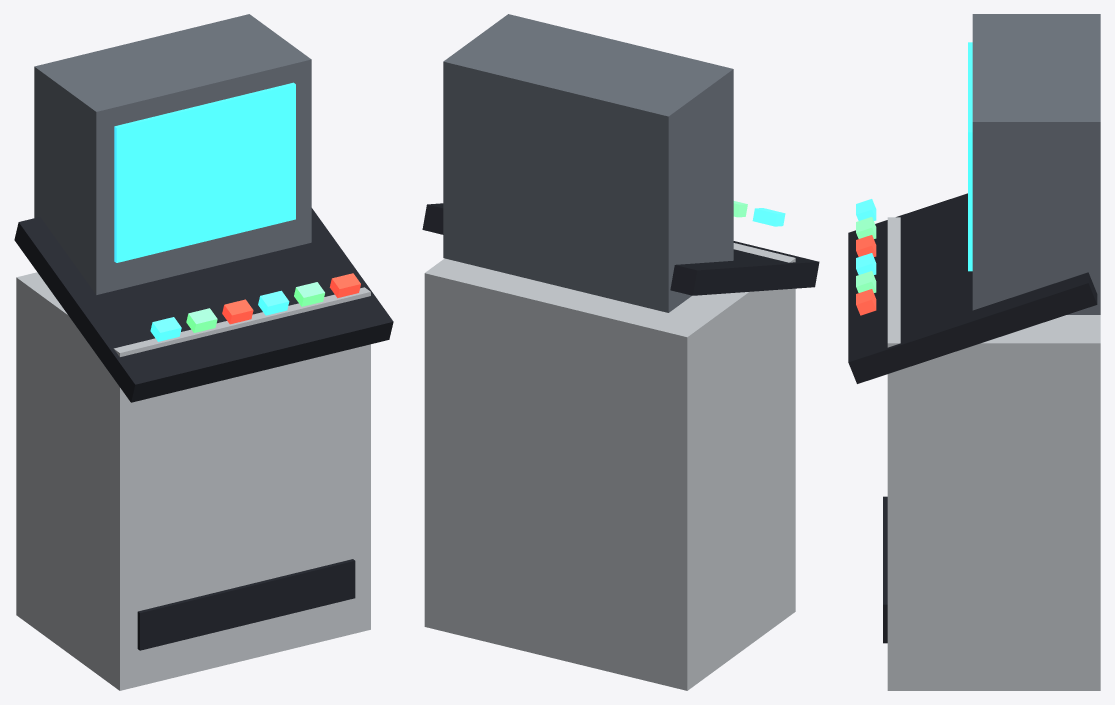
File: computer_terminal.glb
The picture shows the model from 3 angles, left to right: view 1: azimuth 30°, elevation 25°; view 2: azimuth 150°, elevation 25°; view 3: azimuth 270°, elevation 25°; orthographic projection. The views are drawn at different scales.
Parts seen in each view (by area): view 1: computer_terminal; view 2: computer_terminal; view 3: computer_terminal.
Boxes of the visible parts, x1,y1,x2,y2 form: computer_terminal: (14, 14, 393, 690); computer_terminal: (422, 14, 819, 690); computer_terminal: (848, 14, 1100, 690).
Size of the model in its own units: 0.72 by 1.45 by 0.5921.
